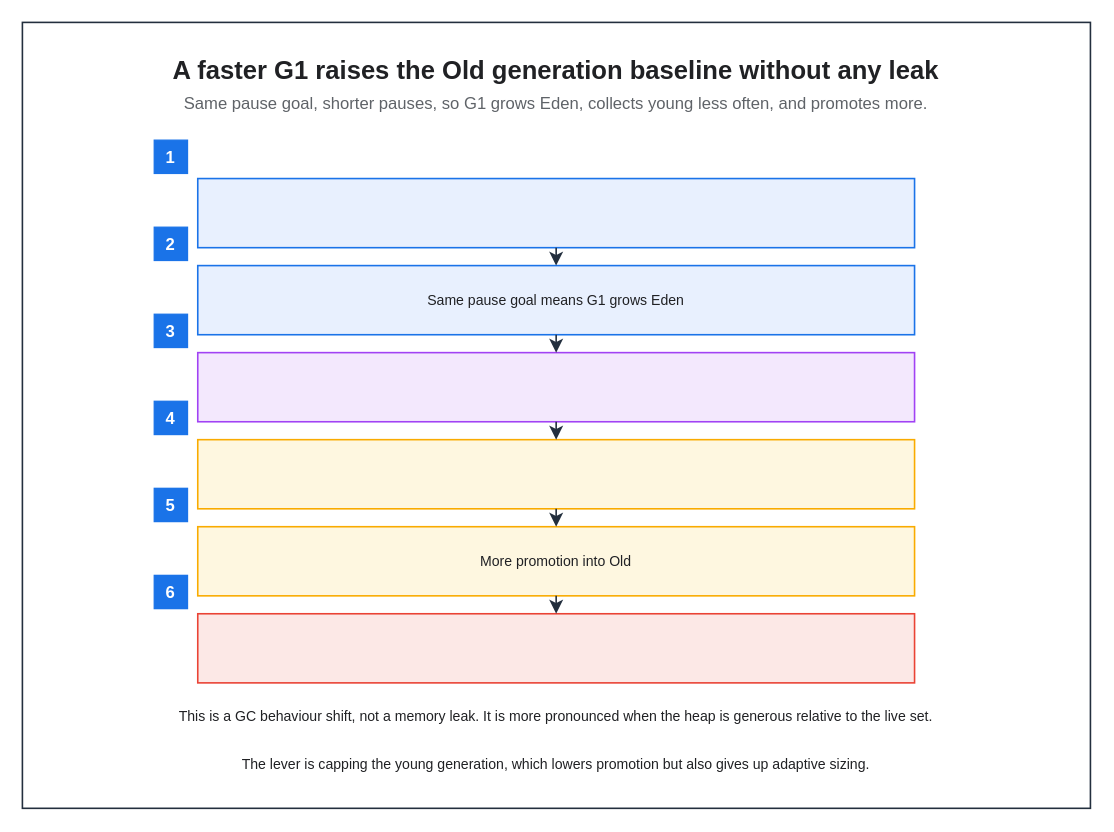
Image size: 1114x832. Some labels were removed from this diagram. The box of each missing label's shape, as (x1, y1, x2, y2) in pixels:
Adaptive IHOP defers concurrent marking: (196, 438, 915, 509)
Fewer minor collections: (196, 351, 915, 422)
Newer JDK: G1 pauses get shorter: (196, 177, 915, 248)
Old stays high, then drops on mixed GC: a sawtooth: (196, 612, 915, 683)
